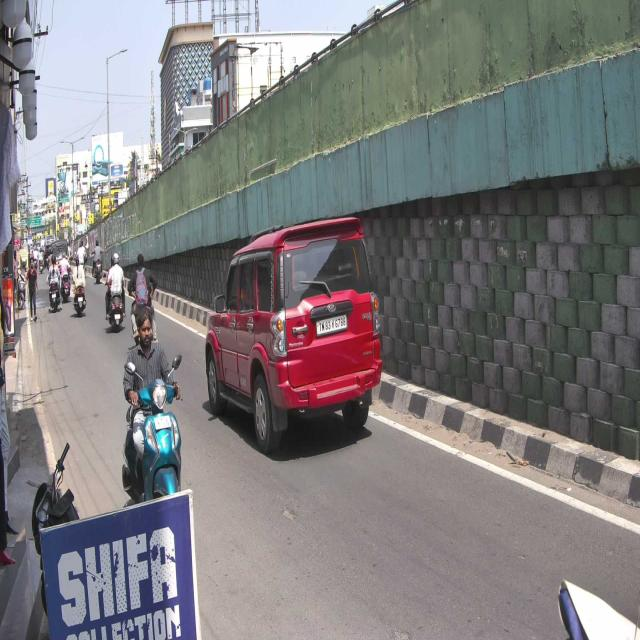single_rider: (122, 303, 186, 510)
